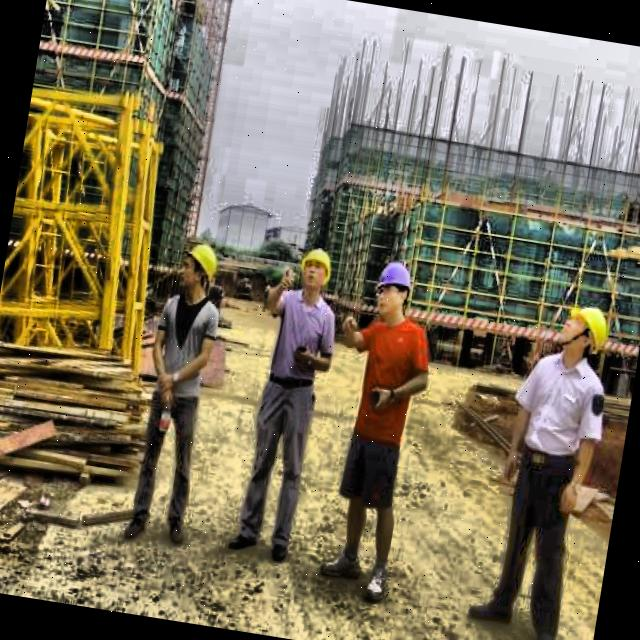helmet: (558, 300, 614, 361), (174, 239, 218, 298), (369, 263, 415, 319), (298, 244, 335, 293)
